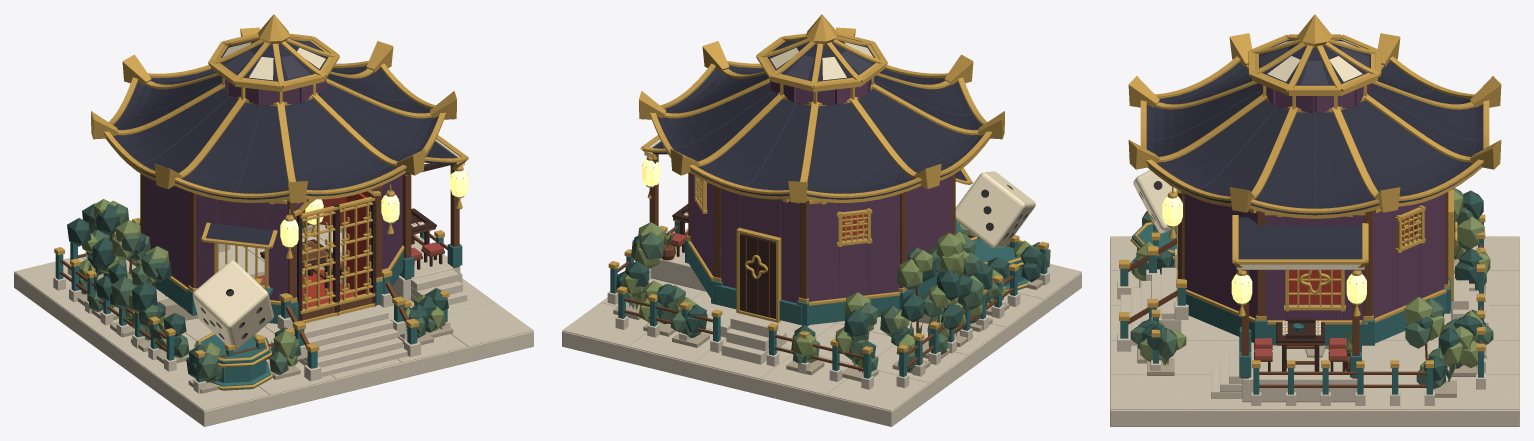
Rendered from casino.glb.
3 renders of one model, left to right at view 1: azimuth 30°, elevation 25°; view 2: azimuth 150°, elevation 25°; view 3: azimuth 270°, elevation 25°, orthographic. The views are drawn at different scales.
Parts seen in each view (by area): view 1: SM_QK18_C17_Batch_12, SM_QK18_C17_Batch_0, SM_QK18_C17_Batch_21, SM_QK18_C17_Batch_3, SM_QK18_C17_Batch_70, SM_QK18_C17_Batch_20, SM_QK18_C17_Batch_68, SM_QK18_C17_Batch_76, SM_QK18_C17_Batch_44, SM_QK18_C17_Batch_69, SM_QK18_C17_Batch_31, SM_QK18_C17_Batch_34 (+31 smaller); view 2: SM_QK18_C17_Batch_12, SM_QK18_C17_Batch_0, SM_QK18_C17_Batch_83, SM_QK18_C17_Batch_21, SM_QK18_C17_Batch_69, SM_QK18_C17_Batch_70, SM_QK18_C17_Batch_68, SM_QK18_C17_Batch_76, SM_QK18_C17_Batch_44, SM_QK18_C17_Batch_64, SM_QK18_C17_Batch_3, SM_QK18_C17_Batch_74 (+20 smaller); view 3: SM_QK18_C17_Batch_12, SM_QK18_C17_Batch_0, SM_QK18_C17_Batch_21, SM_QK18_C17_Batch_3, SM_QK18_C17_Batch_83, SM_QK18_C17_Batch_76, SM_QK18_C17_Batch_18, SM_QK18_C17_Batch_69, SM_QK18_C17_Batch_8, SM_QK18_C17_Batch_70, SM_QK18_C17_Batch_74, SM_QK18_C17_Batch_68 (+35 smaller).
Boxes of the visible parts, bbox=[...] form: SM_QK18_C17_Batch_12: bbox=[112, 66, 438, 199]; SM_QK18_C17_Batch_0: bbox=[14, 224, 533, 426]; SM_QK18_C17_Batch_21: bbox=[103, 32, 467, 198]; SM_QK18_C17_Batch_3: bbox=[144, 175, 402, 301]; SM_QK18_C17_Batch_70: bbox=[67, 203, 448, 378]; SM_QK18_C17_Batch_20: bbox=[293, 306, 407, 377]; SM_QK18_C17_Batch_68: bbox=[79, 204, 448, 382]; SM_QK18_C17_Batch_76: bbox=[91, 27, 456, 203]; SM_QK18_C17_Batch_44: bbox=[192, 260, 273, 350]; SM_QK18_C17_Batch_69: bbox=[79, 199, 445, 366]; SM_QK18_C17_Batch_31: bbox=[300, 206, 337, 323]; SM_QK18_C17_Batch_34: bbox=[338, 196, 375, 314]; SM_QK18_C17_Batch_12: bbox=[657, 65, 983, 199]; SM_QK18_C17_Batch_0: bbox=[562, 264, 1081, 426]; SM_QK18_C17_Batch_83: bbox=[690, 173, 899, 303]; SM_QK18_C17_Batch_21: bbox=[642, 32, 992, 198]; SM_QK18_C17_Batch_69: bbox=[622, 222, 1035, 373]; SM_QK18_C17_Batch_70: bbox=[616, 235, 1041, 358]; SM_QK18_C17_Batch_68: bbox=[626, 232, 1050, 371]; SM_QK18_C17_Batch_76: bbox=[639, 27, 1004, 203]; SM_QK18_C17_Batch_44: bbox=[955, 171, 1035, 247]; SM_QK18_C17_Batch_64: bbox=[610, 221, 1047, 378]; SM_QK18_C17_Batch_3: bbox=[906, 176, 951, 261]; SM_QK18_C17_Batch_74: bbox=[688, 244, 938, 325]; SM_QK18_C17_Batch_12: bbox=[1146, 61, 1483, 215]; SM_QK18_C17_Batch_0: bbox=[1110, 236, 1519, 426]; SM_QK18_C17_Batch_21: bbox=[1140, 34, 1489, 264]; SM_QK18_C17_Batch_3: bbox=[1184, 193, 1364, 320]; SM_QK18_C17_Batch_83: bbox=[1372, 193, 1445, 318]; SM_QK18_C17_Batch_76: bbox=[1128, 33, 1501, 218]; SM_QK18_C17_Batch_18: bbox=[1238, 217, 1362, 259]; SM_QK18_C17_Batch_69: bbox=[1134, 189, 1490, 380]; SM_QK18_C17_Batch_8: bbox=[1242, 349, 1357, 402]; SM_QK18_C17_Batch_70: bbox=[1138, 190, 1485, 381]; SM_QK18_C17_Batch_74: bbox=[1186, 278, 1451, 345]; SM_QK18_C17_Batch_68: bbox=[1130, 188, 1493, 389].
Bounding box in the file's own units: 10 × 8.79 × 10.
Materials: 19 (12 with a texture image).
